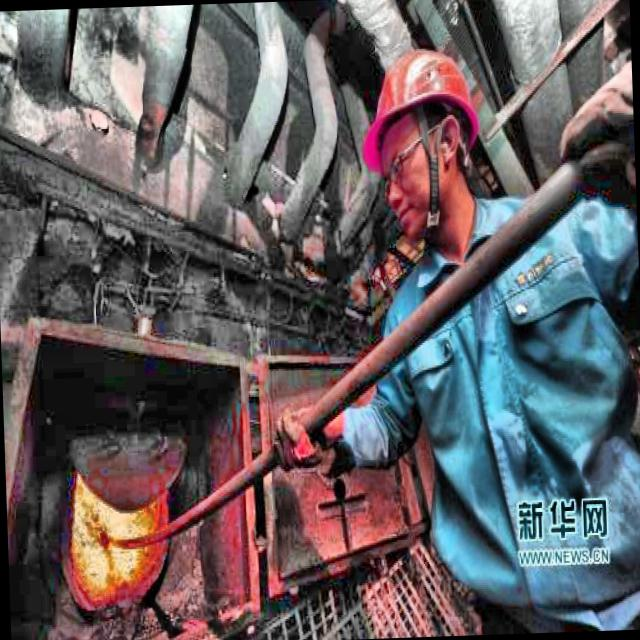helmet: (353, 31, 495, 243)
